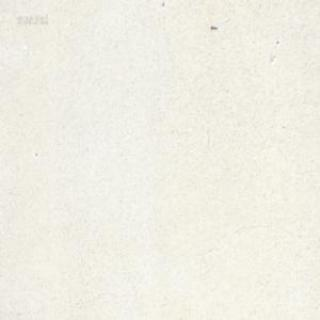Nailtrack_idkeyframe: (210, 24, 217, 29)
